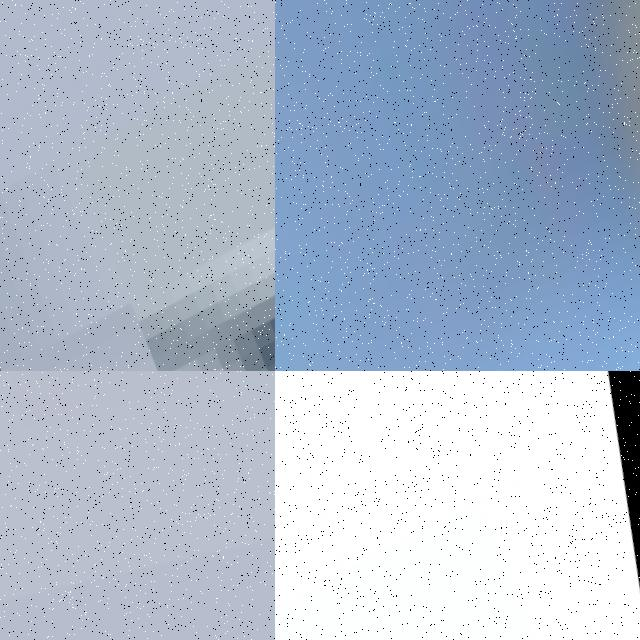0: (0, 0, 275, 371)
drone: (275, 0, 640, 371), (275, 371, 640, 640)
